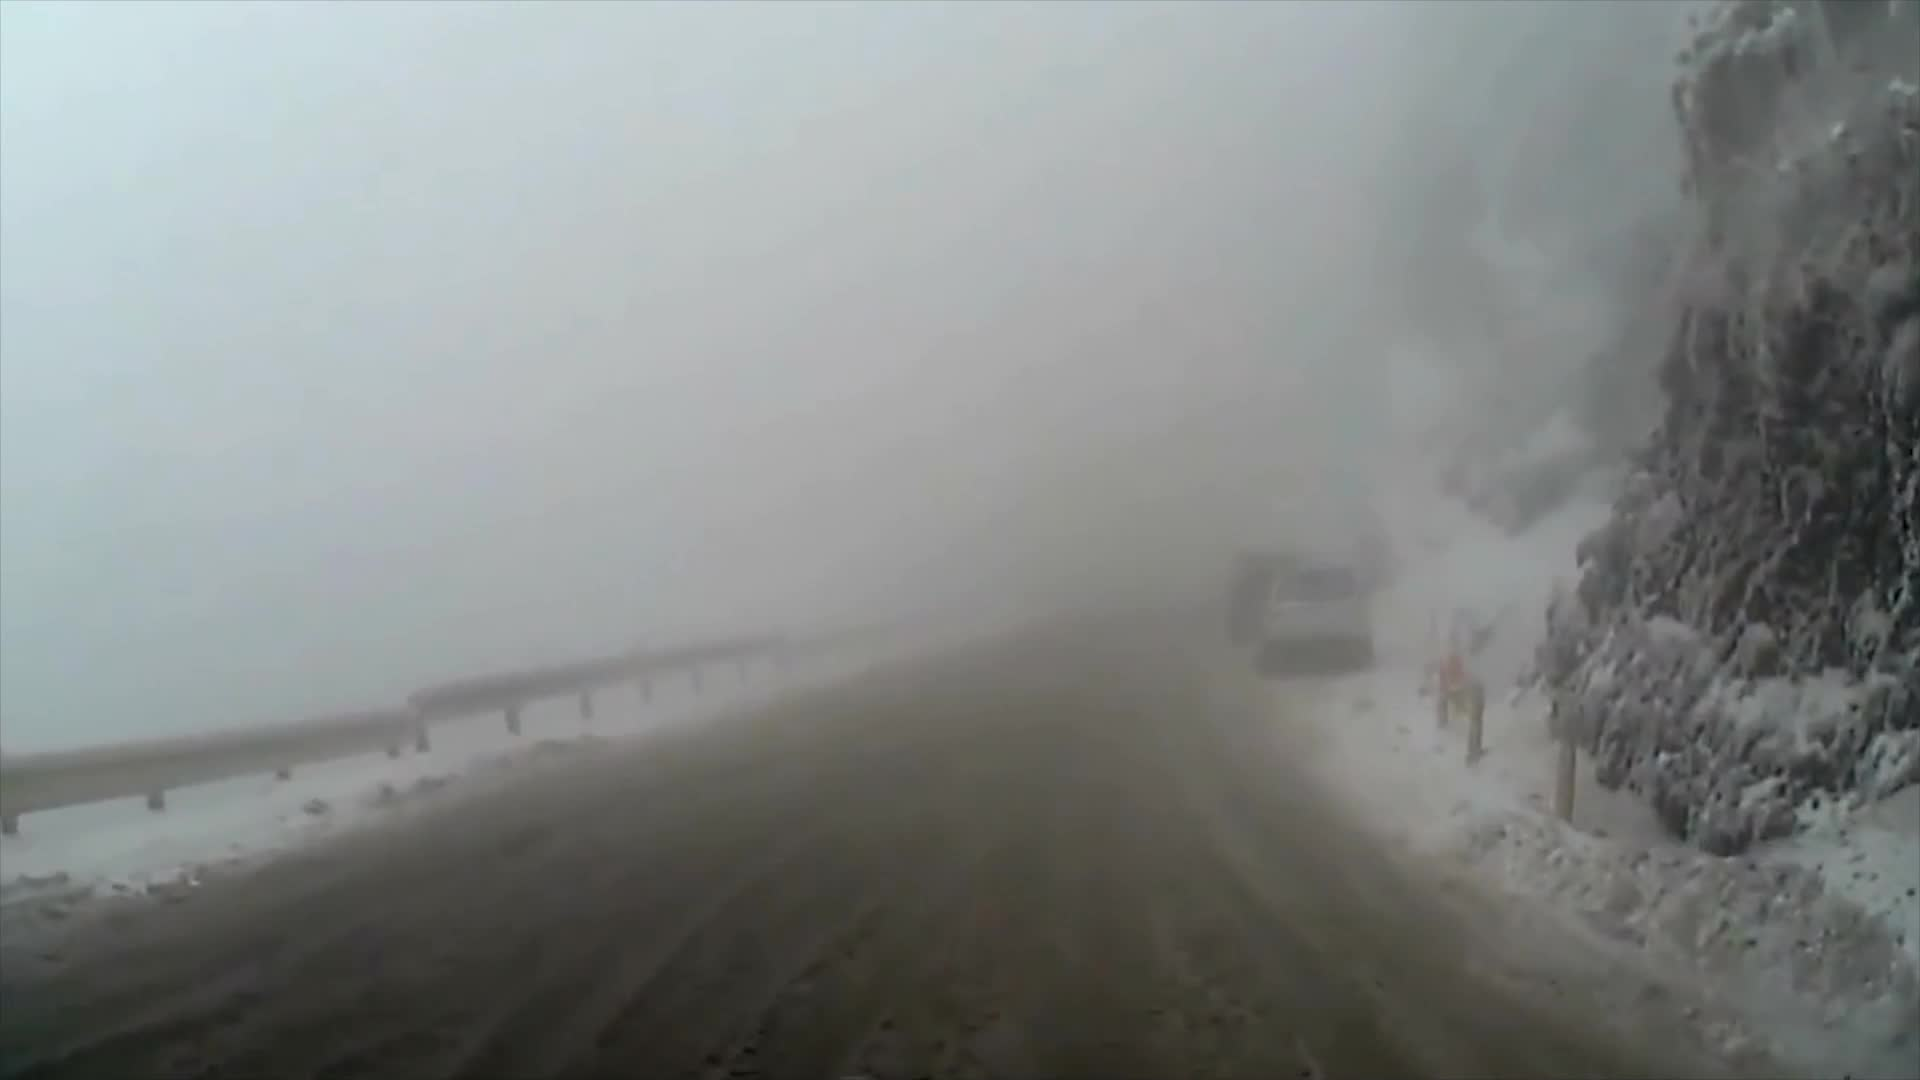vehicle: (1258, 555, 1374, 671)
